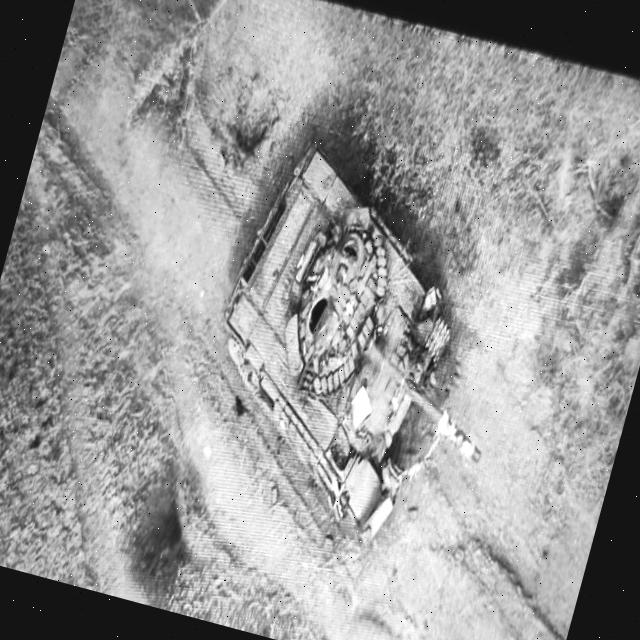MBT: (155, 126, 550, 640)
